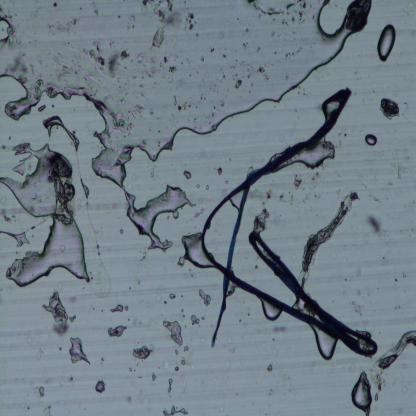Air bubble: (112, 62, 324, 163), (0, 137, 91, 285), (89, 148, 195, 251), (0, 72, 110, 149), (310, 0, 349, 63), (178, 228, 209, 271), (44, 116, 80, 145), (351, 370, 372, 414), (311, 327, 339, 360), (300, 144, 335, 168), (377, 25, 397, 63), (67, 336, 90, 368), (260, 300, 282, 324), (0, 14, 14, 44), (92, 379, 106, 395), (364, 134, 378, 147), (183, 168, 193, 181)
Background material: (86, 38, 130, 79), (248, 0, 309, 27), (149, 1, 179, 51), (100, 98, 140, 133), (44, 291, 74, 336), (345, 1, 373, 35), (7, 55, 30, 82), (378, 96, 400, 123), (165, 320, 184, 348), (46, 16, 76, 33), (254, 206, 269, 233), (130, 345, 154, 361), (108, 321, 126, 340), (164, 402, 188, 416), (183, 9, 197, 33), (262, 191, 287, 204), (366, 215, 381, 236), (171, 98, 193, 112), (198, 288, 212, 307), (256, 65, 270, 81), (113, 304, 130, 314), (294, 176, 304, 190), (167, 376, 174, 394), (190, 314, 200, 326), (266, 360, 274, 374), (236, 77, 244, 90), (167, 63, 176, 74), (37, 386, 45, 398), (216, 165, 223, 177), (169, 292, 177, 300), (39, 104, 46, 112)
Cellulose filter fibre: (297, 191, 358, 287), (370, 327, 416, 384)
Cotton: (200, 90, 380, 361)
